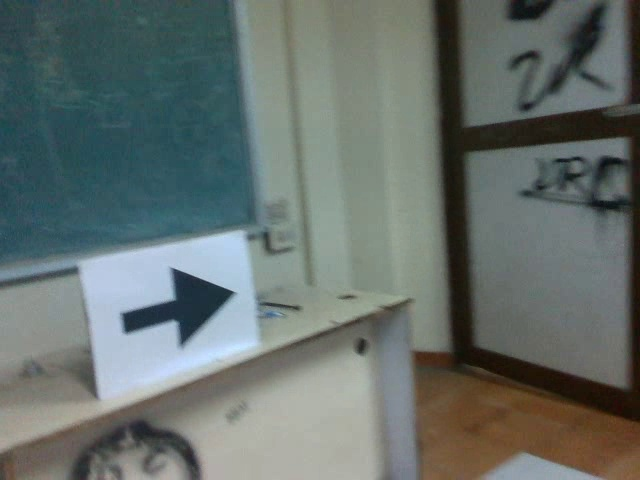Right: (114, 263, 238, 354)
